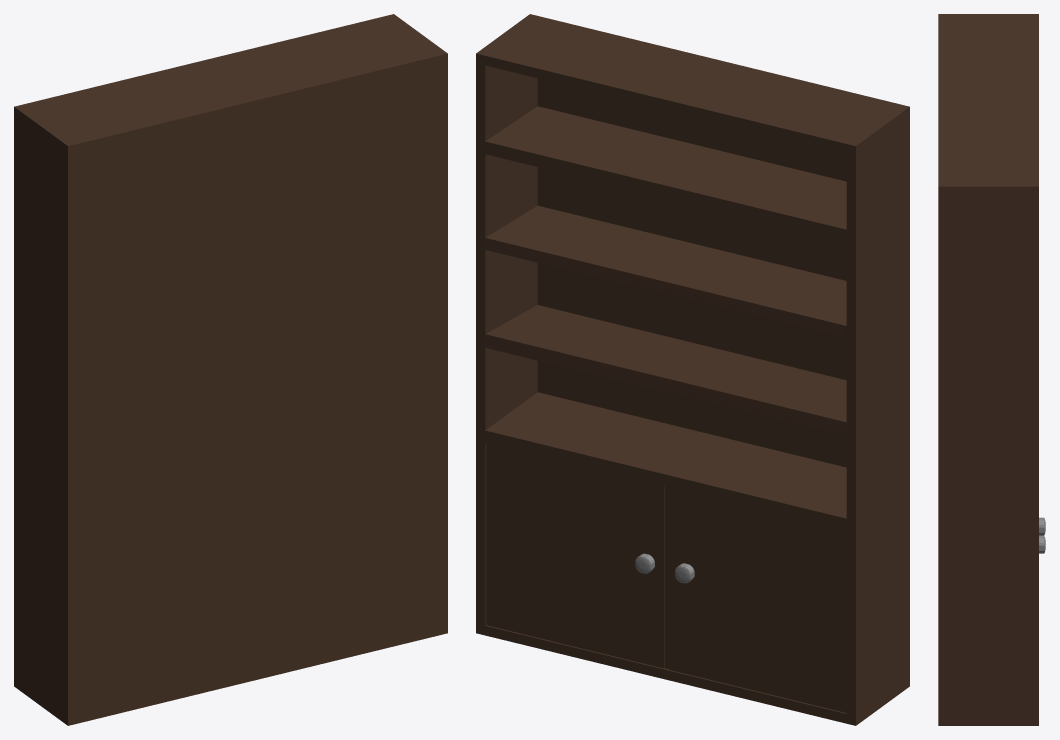
File: Bookcase.fbx
The picture shows the model from 3 angles, left to right: view 1: azimuth 30°, elevation 25°; view 2: azimuth 150°, elevation 25°; view 3: azimuth 270°, elevation 25°; orthographic projection. The views are drawn at different scales.
Parts seen in each view (by area): view 1: Cube; view 2: Cube; view 3: Cube.
Boxes of the visible parts, bbox=[...] form: Cube: bbox=[14, 14, 447, 725]; Cube: bbox=[476, 14, 909, 725]; Cube: bbox=[938, 14, 1045, 725].
Size of the model in its own units: 451 by 657 by 118.
